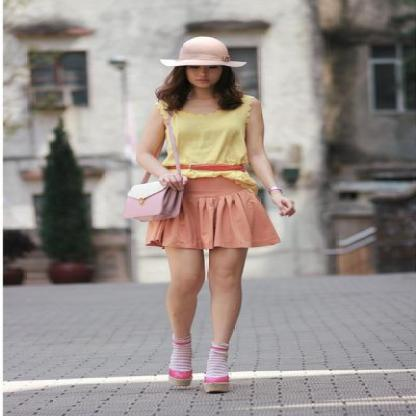bag: (122, 181, 182, 240)
hat: (149, 37, 239, 84)
shirt: (162, 108, 249, 184)
shoe: (174, 370, 243, 400)
skirt: (146, 177, 278, 254)
